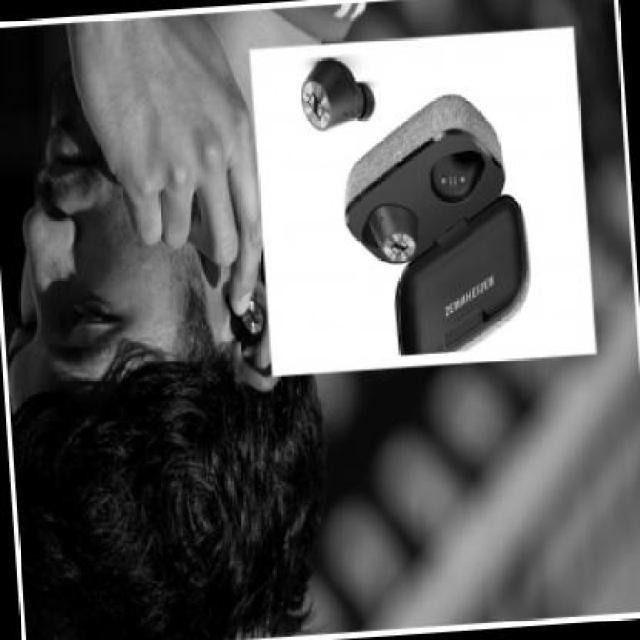earphone: (320, 91, 546, 356), (291, 58, 396, 127), (226, 291, 281, 353)
